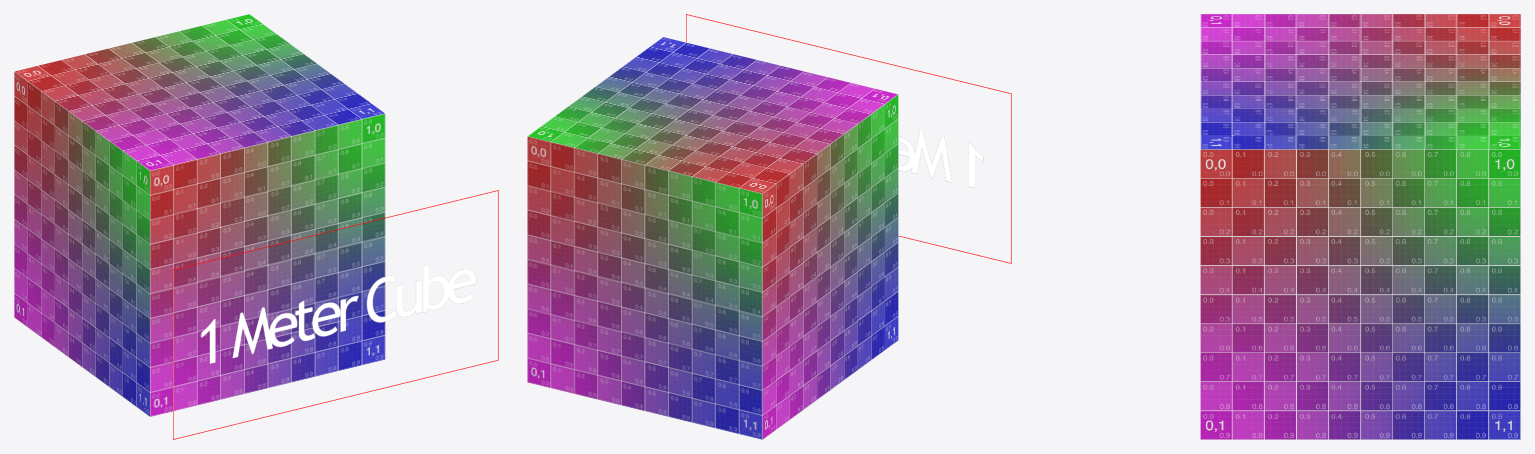
File: 1_meter_cube.glb
3 renders of one model, left to right at view 1: azimuth 30°, elevation 25°; view 2: azimuth 150°, elevation 25°; view 3: azimuth 270°, elevation 25°, orthographic. The views are drawn at different scales.
Visible parts, largest first — view 1: Cube, Plane; view 2: Cube, Plane; view 3: Cube.
Boxes of the visible parts, <box> form: Cube: <box>14,14,385,416</box>; Plane: <box>173,190,498,439</box>; Cube: <box>527,37,898,439</box>; Plane: <box>686,14,1011,263</box>; Cube: <box>1200,14,1520,439</box>.
Size of the model in its own units: 138 by 100 by 150.
2 materials, 2 textured.
